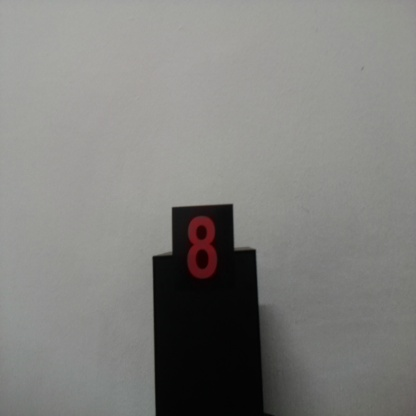id_8: (172, 208, 234, 305)
